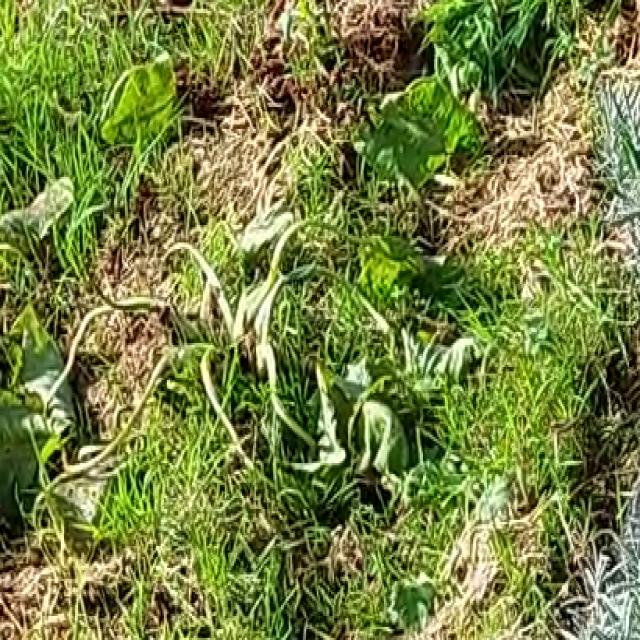organic waste: (0, 39, 467, 542)
